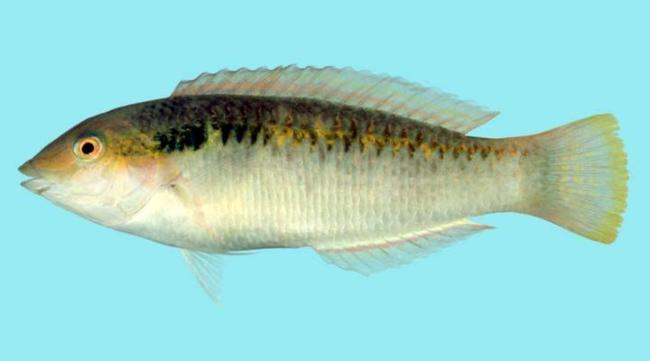fish: (17, 63, 630, 304)
